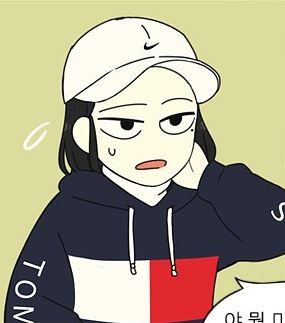hat: (48, 6, 230, 105)
